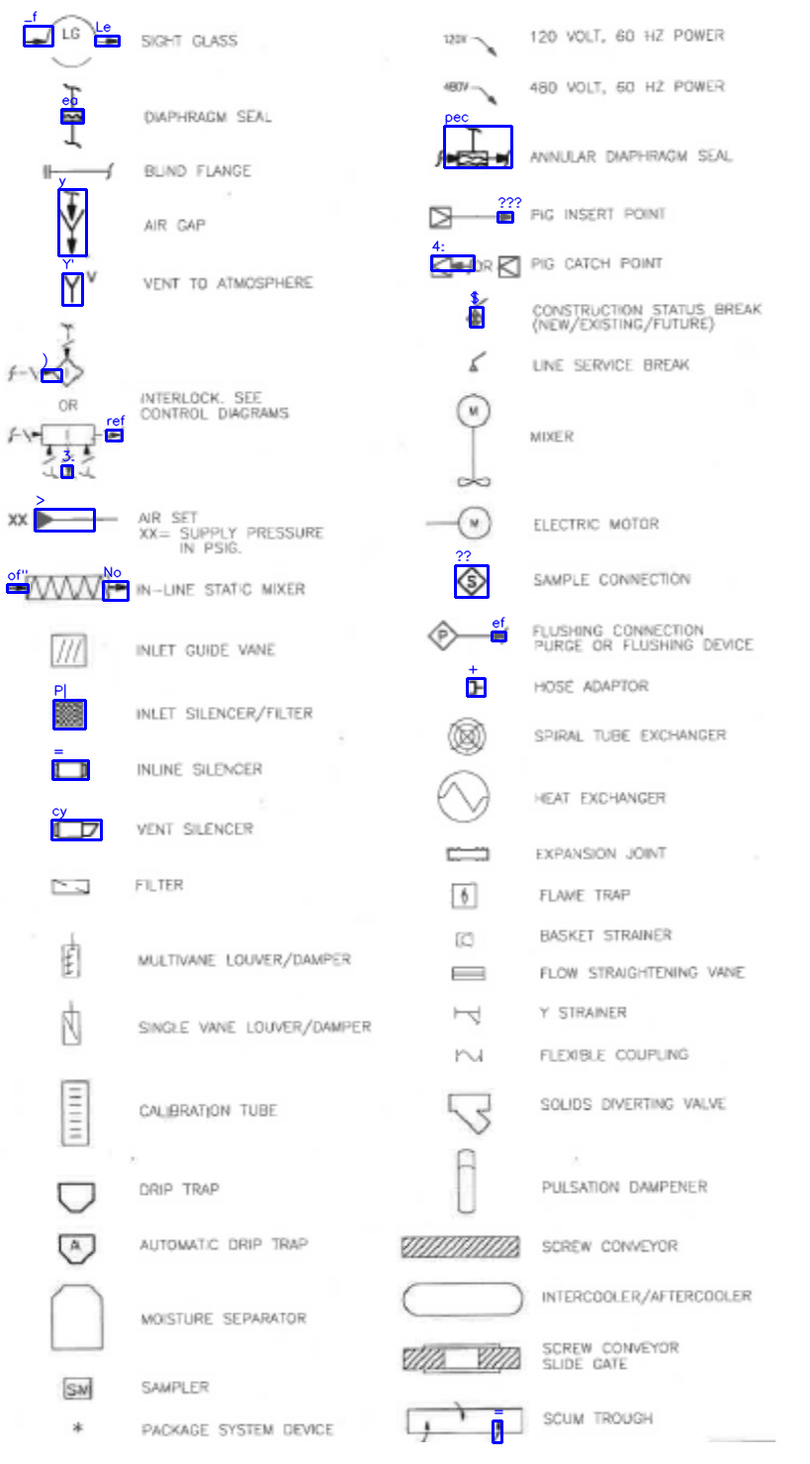Acumulador: (452, 1144, 482, 1214)
Conexão: (424, 248, 529, 283), (423, 198, 517, 235), (424, 617, 511, 654), (36, 161, 116, 182), (440, 840, 494, 867), (454, 563, 491, 600), (451, 1043, 488, 1066), (463, 676, 491, 700)
Filtro: (447, 997, 487, 1030), (52, 695, 87, 732), (46, 875, 93, 899), (452, 927, 480, 952)
Instrumento: (429, 122, 515, 174), (3, 505, 125, 536), (57, 78, 88, 152), (60, 1374, 94, 1404)
Misturador: (451, 388, 495, 492), (6, 570, 133, 606)
Motor: (419, 504, 497, 541)
Outro: (5, 420, 136, 482), (4, 315, 94, 389), (17, 10, 126, 70), (404, 1400, 527, 1442), (57, 1073, 93, 1153), (55, 186, 89, 262), (45, 629, 92, 670), (54, 1178, 100, 1215), (54, 1230, 100, 1267), (48, 817, 103, 840), (462, 293, 495, 330), (450, 877, 484, 912), (49, 757, 91, 781), (463, 344, 491, 377), (450, 961, 489, 983), (67, 1415, 88, 1437)
Resfriador: (400, 1276, 525, 1319)
Separador: (46, 1280, 107, 1354)
SistemadePotência: (440, 26, 506, 64), (440, 73, 504, 111)
TrocadordeCalor: (435, 768, 493, 825), (444, 713, 490, 758)
Tubulação: (57, 266, 103, 306)
Válvula: (401, 1340, 527, 1377), (397, 1234, 525, 1260), (444, 1088, 498, 1135), (56, 928, 86, 983), (59, 997, 84, 1051)
